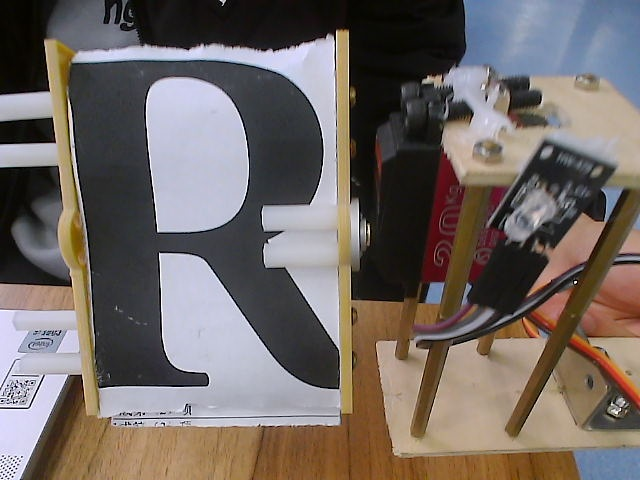R: (12, 19, 385, 448)
